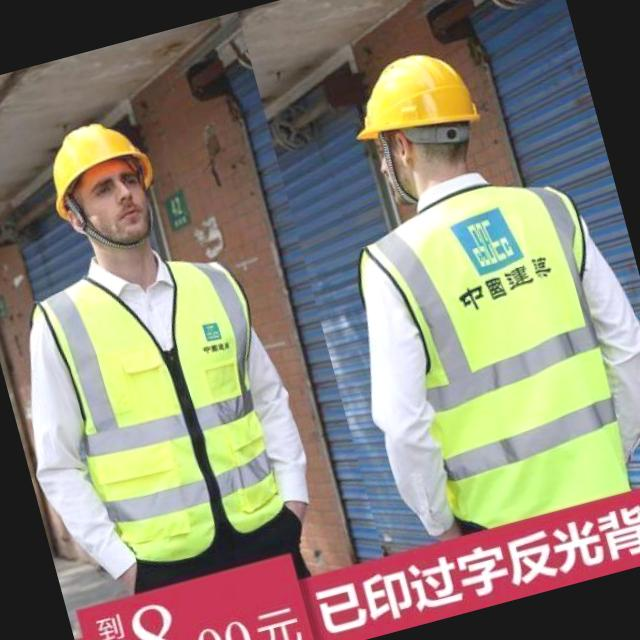vest: (378, 177, 638, 520), (52, 259, 288, 564)
